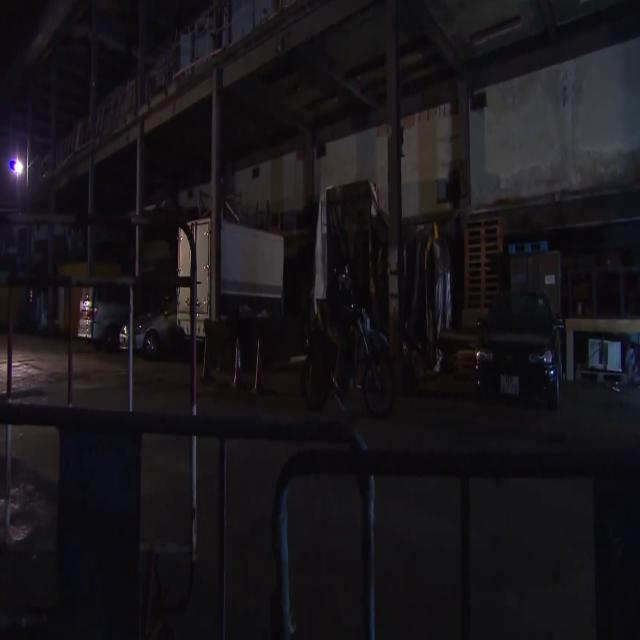Motorbike: (293, 271, 409, 491)
